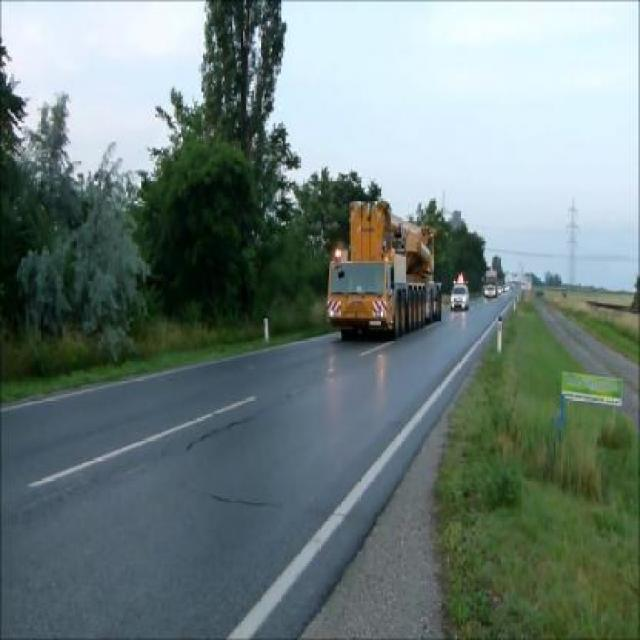Mobile Crane: (329, 198, 440, 342)
